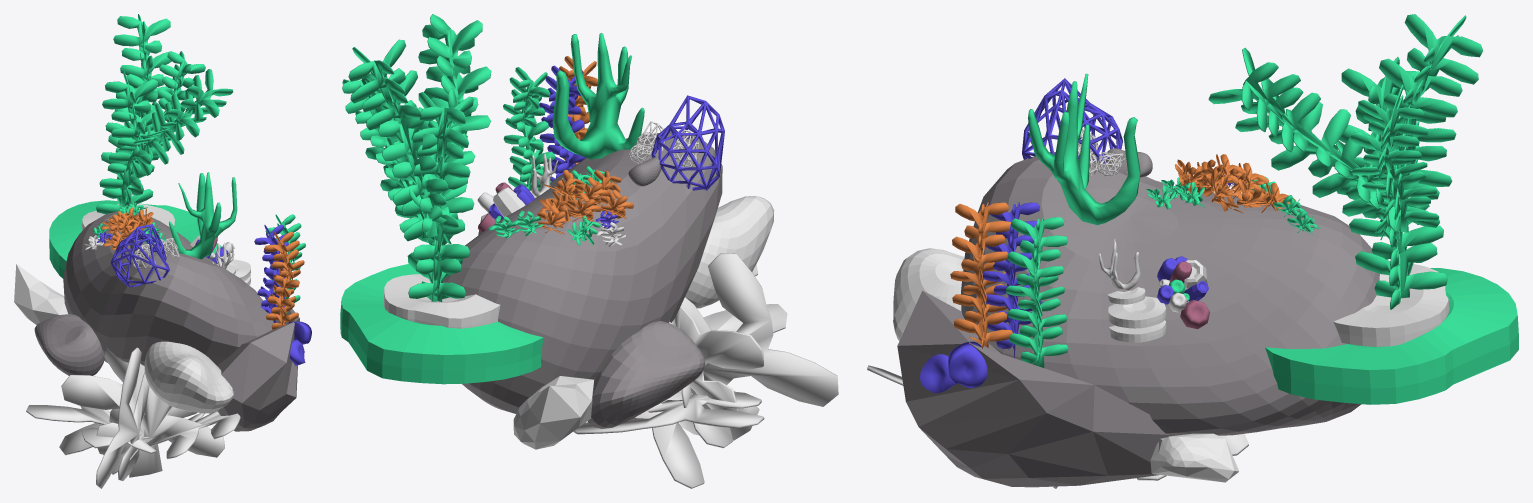
File: Recifes 2.fbx
The picture shows the model from 3 angles, left to right: view 1: azimuth 30°, elevation 25°; view 2: azimuth 150°, elevation 25°; view 3: azimuth 270°, elevation 25°; orthographic projection. The views are drawn at different scales.
Visible parts, largest first — view 1: Sphere, Plane.030, Icosphere.003, Sphere.003, Plane.009_Plane.003, Plane.009_Plane.006, Plane.009_Plane.005, Sphere.002, Cylinder.029, Cube.005, Plane.014_Plane.002, Icosphere.006 (+6 smaller); view 2: Sphere, Plane.030, Cylinder.029, Sphere.002, Plane.009_Plane.005, Plane.009_Plane.003, Cube.005, Plane.009_Plane.006, Sphere.003, Icosphere.006, Cylinder.028, Plane.014_Plane.004 (+11 smaller); view 3: Sphere, Icosphere.003, Cylinder.029, Plane.009_Plane.006, Plane.009_Plane.005, Plane.009_Plane.003, Cube.005, Plane.009_Plane.004, Plane.014_Plane.004, Plane.014_Plane.002, Cylinder.028, Sphere.003 (+10 smaller).
Part boxes in pixels (left/top/right/bottom): Sphere: left=63, top=211, right=273, bottom=365; Plane.030: left=26, top=347, right=240, bottom=488; Icosphere.003: left=217, top=308, right=299, bottom=431; Sphere.003: left=144, top=341, right=233, bottom=413; Plane.009_Plane.003: left=96, top=70, right=163, bottom=214; Plane.009_Plane.006: left=118, top=69, right=233, bottom=175; Plane.009_Plane.005: left=101, top=14, right=172, bottom=184; Sphere.002: left=34, top=314, right=104, bottom=375; Cylinder.029: left=49, top=200, right=199, bottom=278; Cube.005: left=169, top=172, right=237, bottom=259; Plane.014_Plane.002: left=264, top=231, right=304, bottom=329; Icosphere.006: left=14, top=264, right=67, bottom=324; Sphere: left=442, top=131, right=722, bottom=413; Plane.030: left=573, top=253, right=838, bottom=488; Cylinder.029: left=340, top=264, right=543, bottom=384; Sphere.002: left=587, top=321, right=705, bottom=428; Plane.009_Plane.005: left=348, top=39, right=458, bottom=245; Plane.009_Plane.003: left=407, top=92, right=474, bottom=301; Cube.005: left=552, top=33, right=644, bottom=159; Plane.009_Plane.006: left=395, top=14, right=491, bottom=240; Sphere.003: left=685, top=196, right=774, bottom=308; Icosphere.006: left=513, top=376, right=593, bottom=449; Cylinder.028: left=384, top=274, right=500, bottom=328; Plane.014_Plane.004: left=503, top=67, right=554, bottom=191; Sphere: left=961, top=152, right=1379, bottom=435; Icosphere.003: left=897, top=290, right=1172, bottom=487; Cylinder.029: left=1265, top=268, right=1518, bottom=404; Plane.009_Plane.006: left=1208, top=47, right=1422, bottom=232; Plane.009_Plane.005: left=1363, top=14, right=1482, bottom=239; Plane.009_Plane.003: left=1336, top=57, right=1447, bottom=309; Cube.005: left=1028, top=73, right=1140, bottom=225; Plane.009_Plane.004: left=1350, top=84, right=1439, bottom=239; Plane.014_Plane.004: left=1006, top=216, right=1068, bottom=367; Plane.014_Plane.002: left=950, top=202, right=1012, bottom=348; Cylinder.028: left=1333, top=264, right=1449, bottom=346; Sphere.003: left=893, top=248, right=964, bottom=340.
Bounding box in the file's own units: 364 × 496 × 531.
